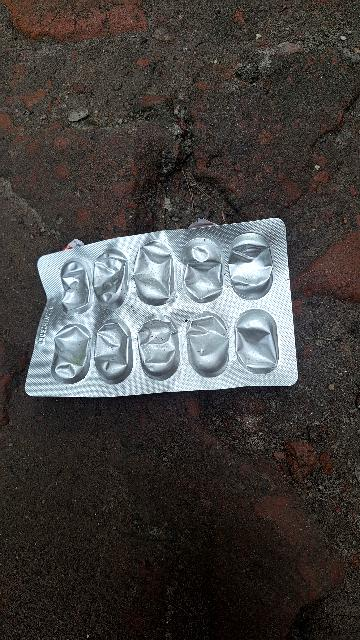medicine: (22, 218, 300, 400)
